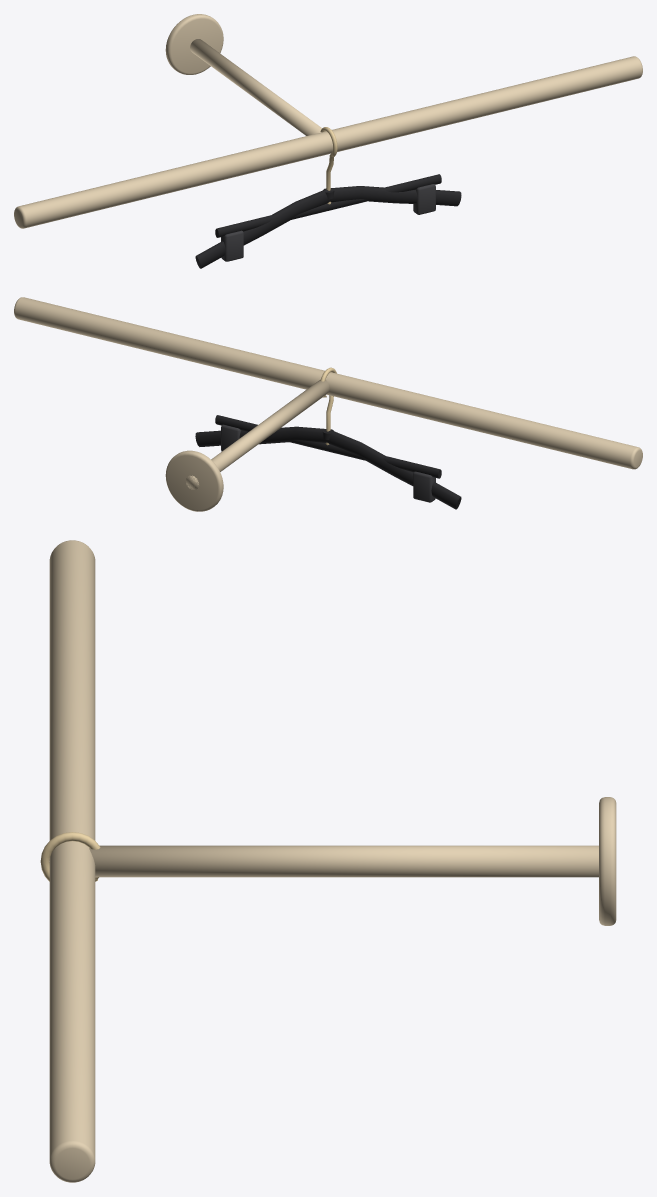
The model's file is portant.glb.
3 views of the same model, one above another, from view 1: azimuth 30°, elevation 25°; view 2: azimuth 150°, elevation 25°; view 3: azimuth 270°, elevation 25° (orthographic). The views are drawn at different scales.
Visible parts, largest first — view 1: Tube, Fixation, Cintre, Cintre_Pinces; view 2: Tube, Fixation, Cintre, Cintre_Pinces; view 3: Tube, Fixation.
Boxes of the visible parts, x1,y1,x2,y2 form: Tube: [14, 56, 642, 228]; Fixation: [165, 14, 321, 135]; Cintre: [195, 127, 461, 268]; Cintre_Pinces: [215, 174, 441, 261]; Tube: [14, 297, 642, 469]; Fixation: [165, 380, 329, 511]; Cintre: [195, 367, 461, 509]; Cintre_Pinces: [215, 415, 441, 502]; Tube: [49, 540, 95, 1182]; Fixation: [89, 797, 616, 925].
Bounding box in the file's own units: 1 × 0.191 × 0.4022.
